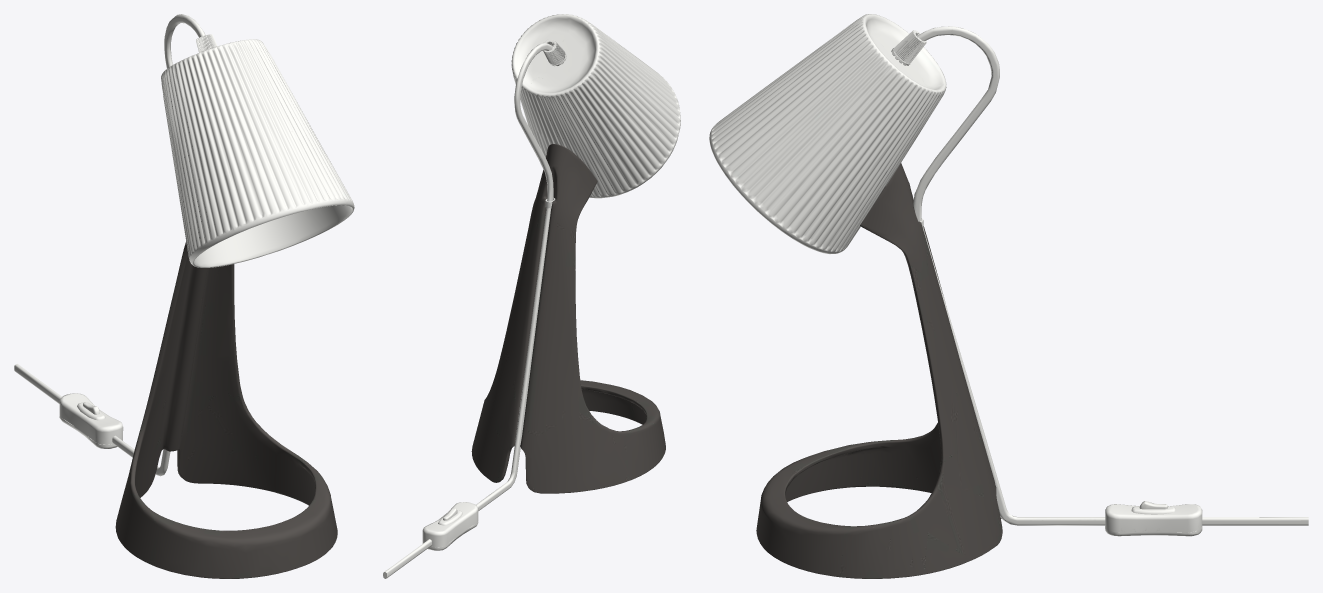
Rendered from svallet_lampa_biurkowa_70358487.glb.
3 views of the same model, side by side, from view 1: azimuth 30°, elevation 25°; view 2: azimuth 150°, elevation 25°; view 3: azimuth 270°, elevation 25° (orthographic). The views are drawn at different scales.
Parts seen in each view (by area): view 1: svallet_lampa_biurkowa_70358487; view 2: svallet_lampa_biurkowa_70358487; view 3: svallet_lampa_biurkowa_70358487.
Part boxes in pixels (box(x1,y1,x2,y2)): svallet_lampa_biurkowa_70358487: box(14, 14, 354, 578); svallet_lampa_biurkowa_70358487: box(383, 14, 680, 578); svallet_lampa_biurkowa_70358487: box(709, 14, 1308, 578).
Bounding box in the file's own units: 0.1419 × 0.3544 × 0.3769.
Materials: 1 (1 with a texture image).
